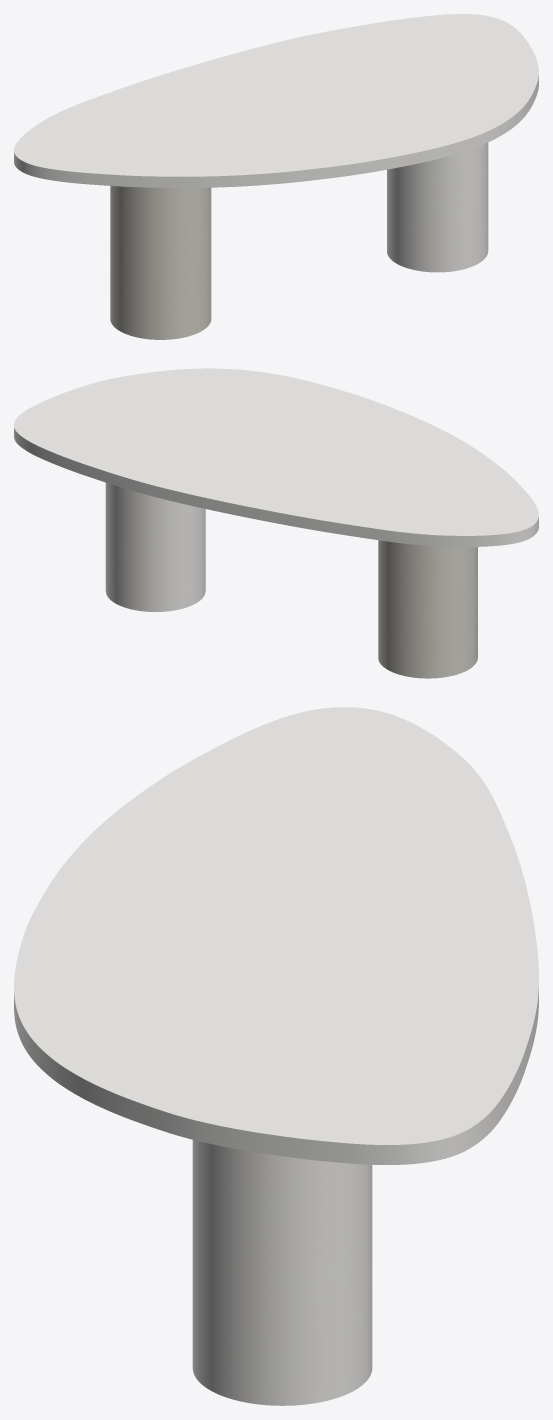
File: purewhite_pebbletop_standard_stream.glb
3 renders of one model, top to bottom at view 1: azimuth 30°, elevation 25°; view 2: azimuth 150°, elevation 25°; view 3: azimuth 270°, elevation 25°, orthographic. The views are drawn at different scales.
Visible parts, largest first — view 1: standard_pebbletop, stream; view 2: standard_pebbletop, stream; view 3: standard_pebbletop, stream.
Part boxes in pixels (left/top/right/bottom): standard_pebbletop: left=14, top=14, right=538, bottom=187; stream: left=110, top=142, right=488, bottom=339; standard_pebbletop: left=14, top=368, right=538, bottom=546; stream: left=105, top=482, right=477, bottom=678; standard_pebbletop: left=14, top=707, right=538, bottom=1164; stream: left=192, top=1140, right=372, bottom=1405.
Size of the model in its own units: 7.5 by 2.51 by 3.8.
Materials: 2 (2 with a texture image).
